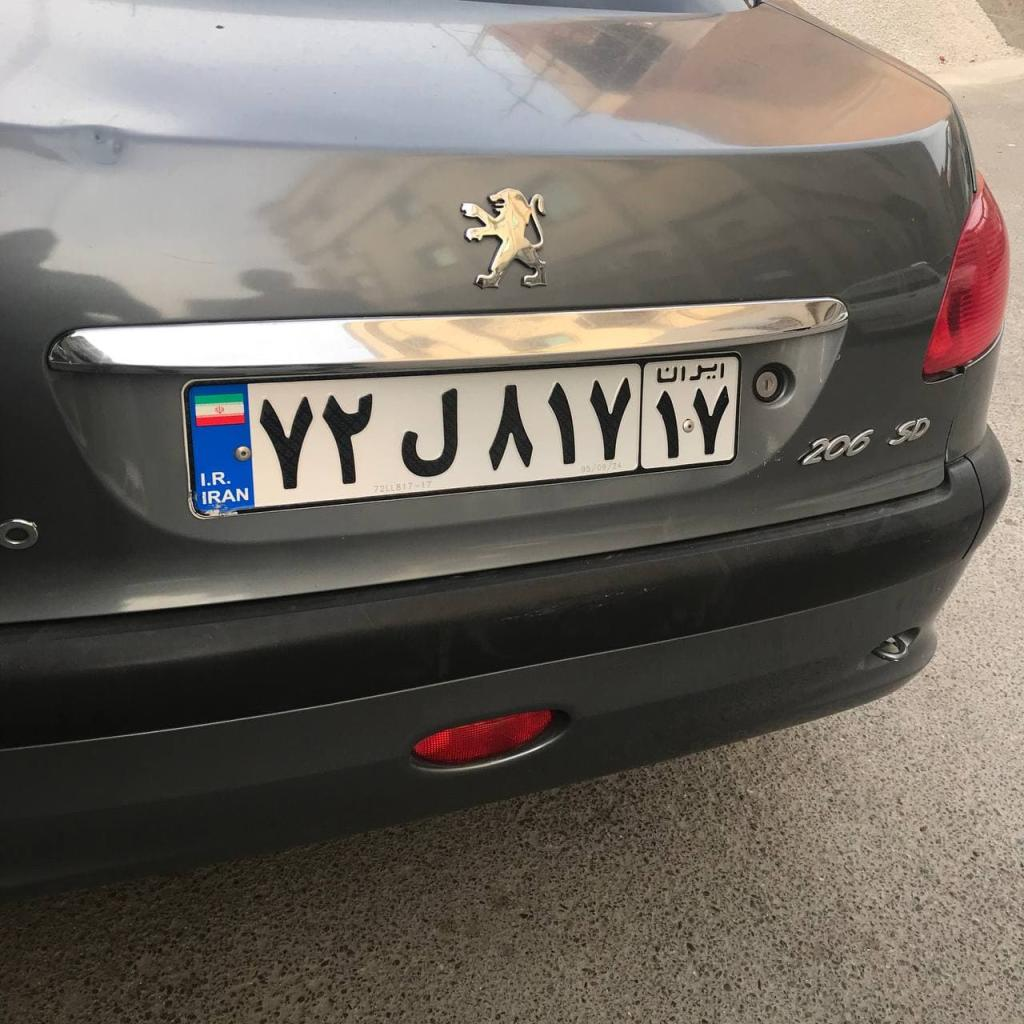Plates: (181, 354, 740, 518)
